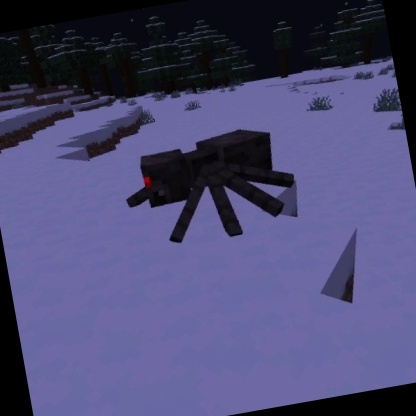spider: (113, 116, 307, 259)
